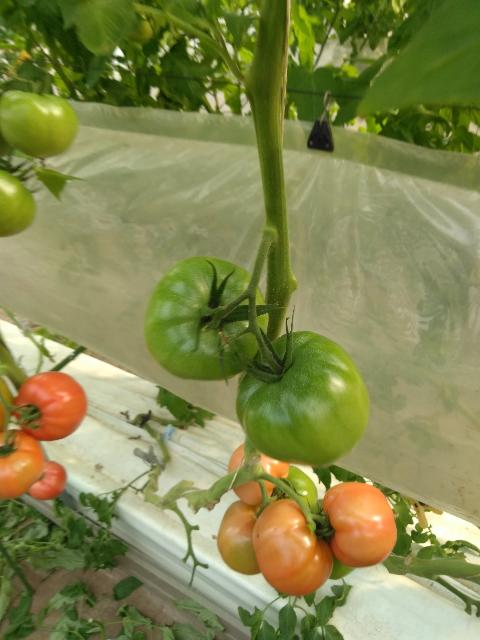b_fully_ripened: (14, 371, 86, 442)
b_green: (236, 330, 371, 467), (145, 257, 268, 382), (0, 89, 78, 160), (276, 464, 318, 512)
b_half_ripened: (253, 499, 334, 596), (322, 481, 398, 568), (227, 440, 290, 505), (217, 500, 266, 575), (0, 429, 45, 499), (27, 460, 67, 500)
